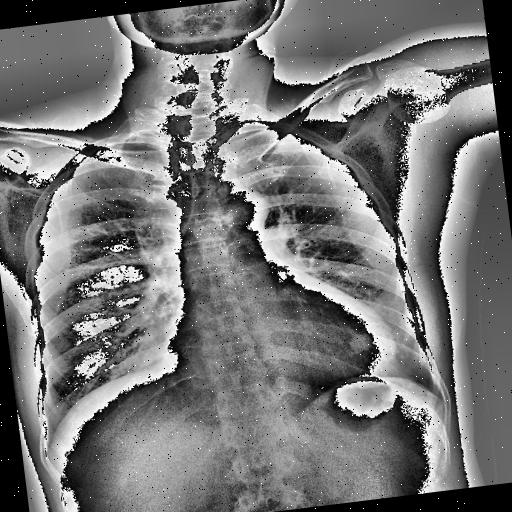0- Aortic enlargement: (224, 186, 270, 226)
3- Cardiomegaly: (158, 298, 400, 404), (158, 302, 404, 394), (160, 315, 401, 401)
8- Nodule-Mass: (347, 330, 374, 354)
